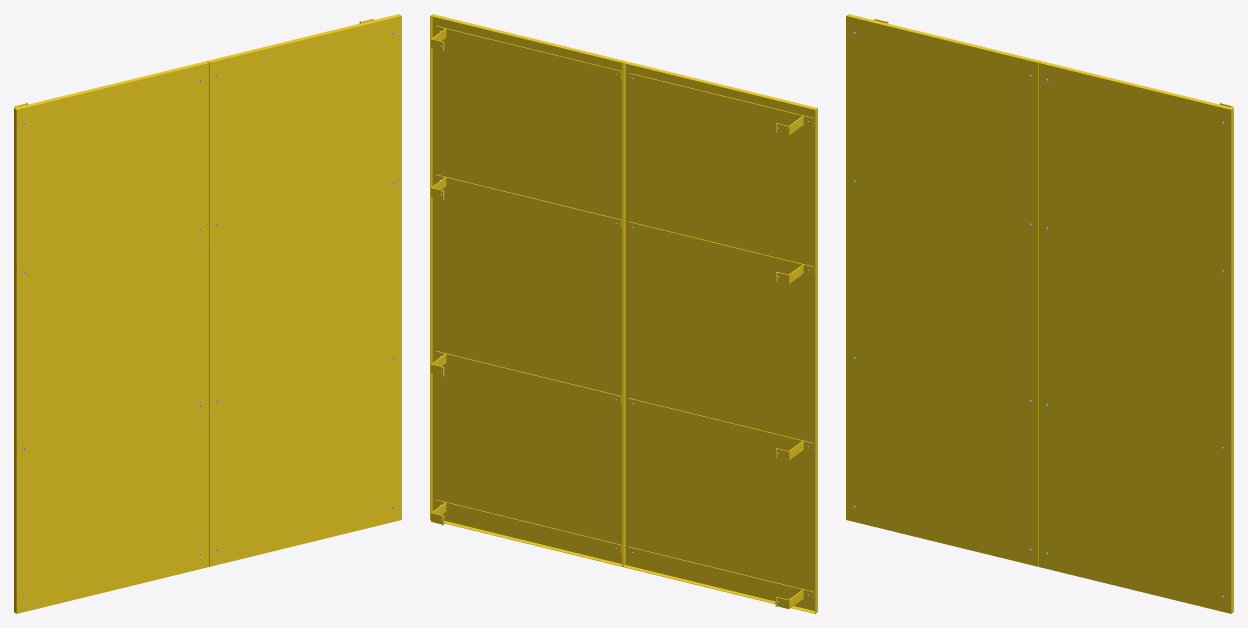
File: pit_screen.glb
The picture shows the model from 3 angles, left to right: view 1: azimuth 30°, elevation 25°; view 2: azimuth 150°, elevation 25°; view 3: azimuth 330°, elevation 25°; orthographic projection.
Parts seen in each view (by area): view 1: PitScreenPanelLeft, PitScreenPanelRight; view 2: PitScreenPanelLeft, PitScreenPanelRight, PitScreenBrackets; view 3: PitScreenPanelRight, PitScreenPanelLeft.
Boxes of the visible parts, x1=… form: PitScreenPanelLeft: x1=14, y1=61, x2=208, y2=613; PitScreenPanelRight: x1=207, y1=14, x2=401, y2=566; PitScreenPanelLeft: x1=623, y1=61, x2=817, y2=613; PitScreenPanelRight: x1=430, y1=14, x2=624, y2=566; PitScreenBrackets: x1=431, y1=26, x2=813, y2=608; PitScreenPanelRight: x1=1039, y1=61, x2=1233, y2=613; PitScreenPanelLeft: x1=846, y1=14, x2=1040, y2=566.
Size of the model in its own units: 1.6 by 2 by 0.1208.
